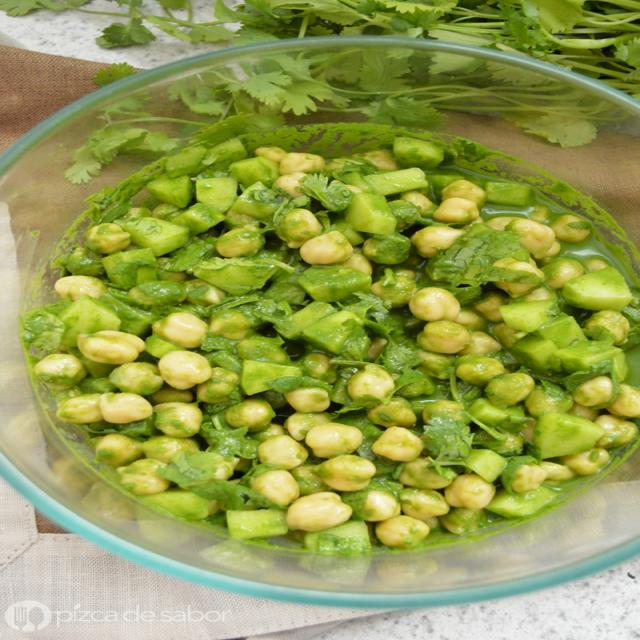garbanzos: (49, 160, 640, 523)
